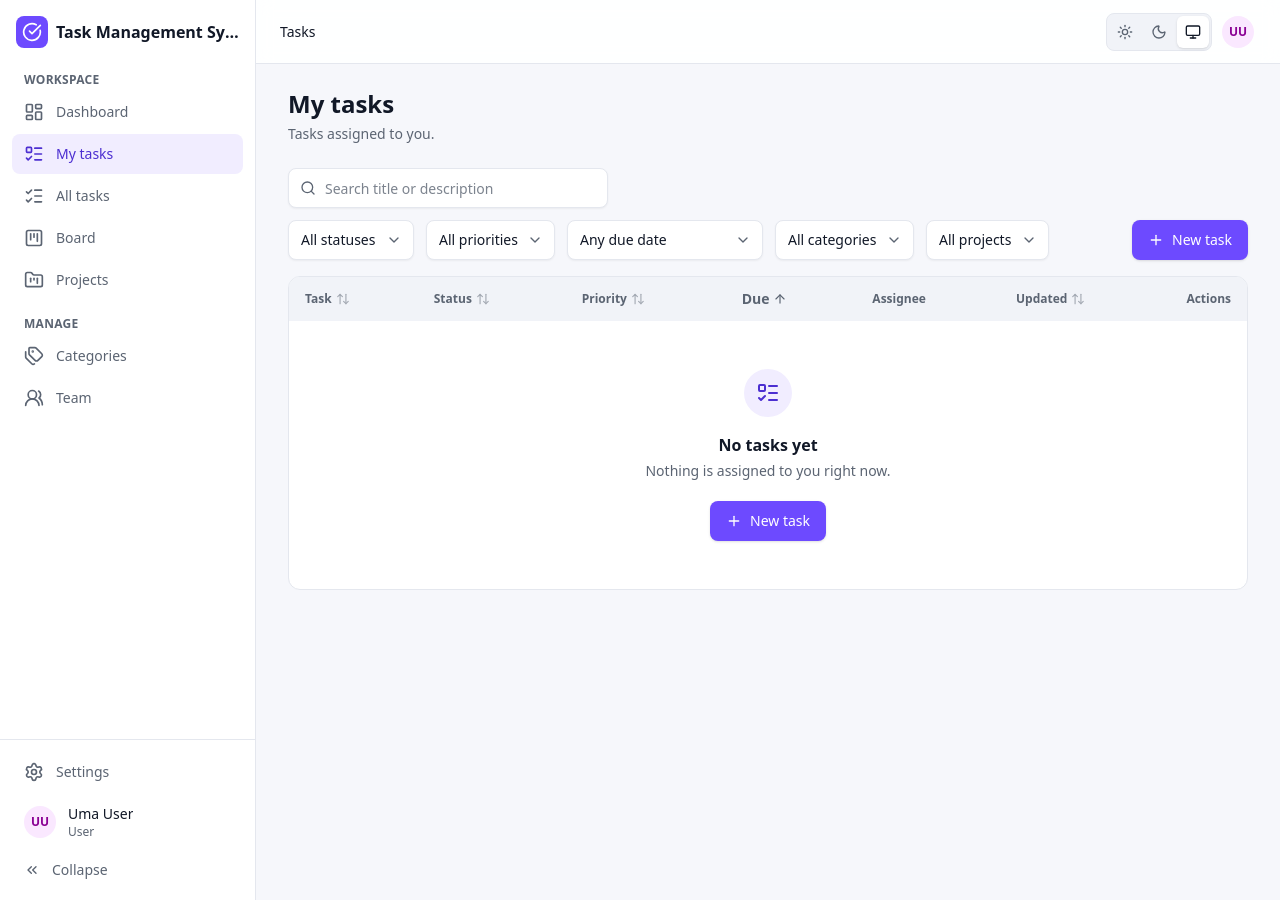
Test: Role-based navigation (Phase 1 §13) › marks exactly one of "My tasks" / "All tasks" as the current page
Expected: the heading "My tasks" is shown, [288,87,394,120]
Click the link "All tasks": (67, 196) [24,186,110,206]
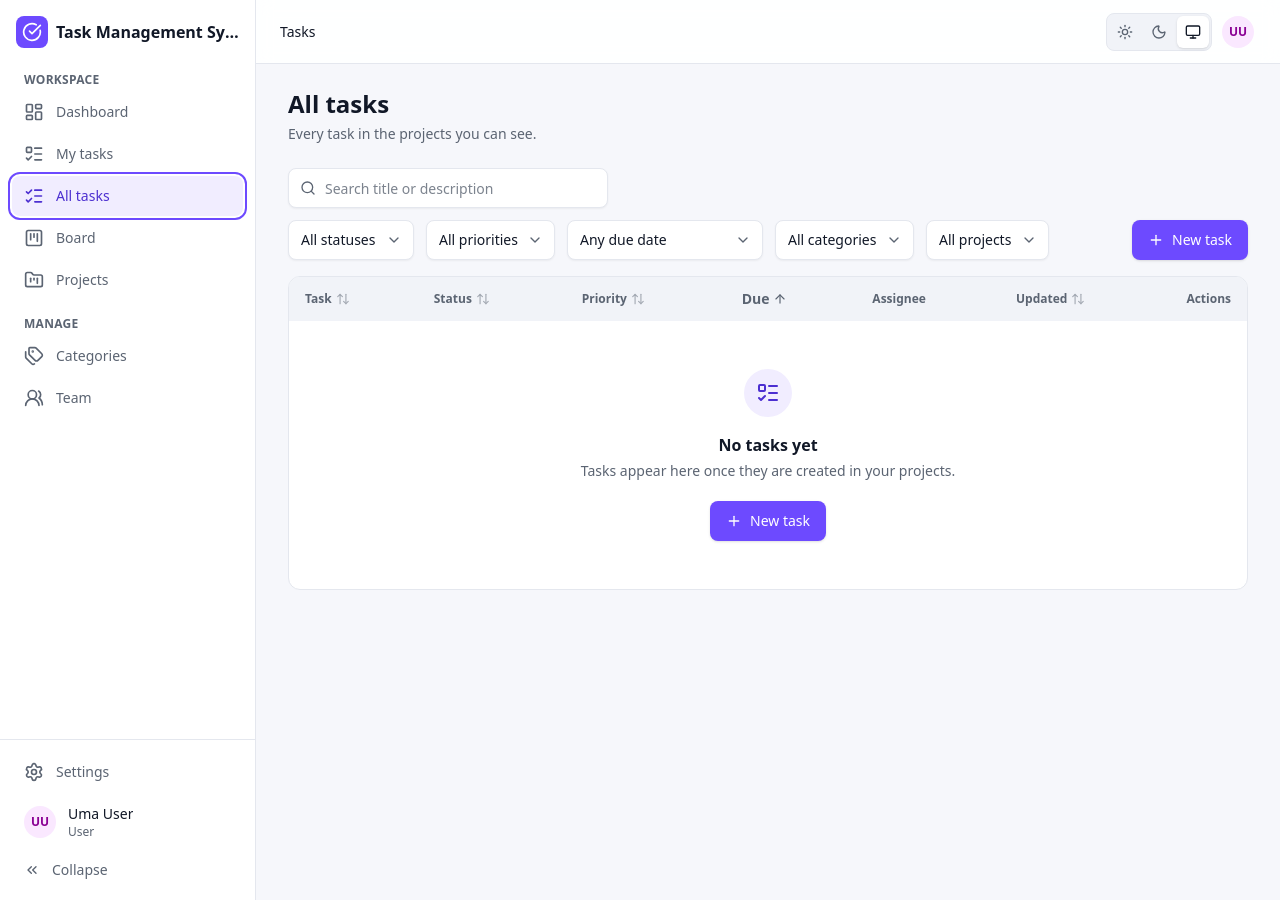
Now the heading "All tasks" is shown, box [288,87,389,120]
